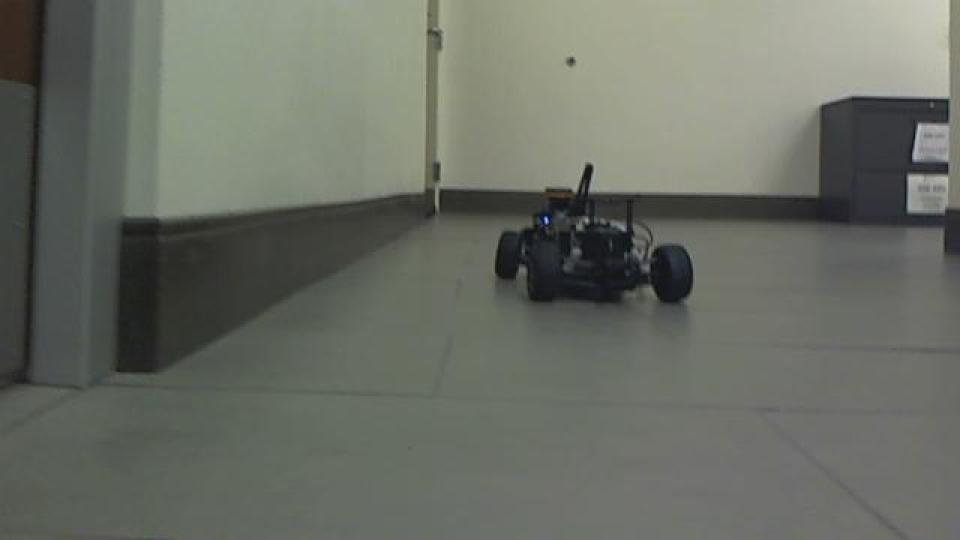car: (490, 161, 696, 308)
